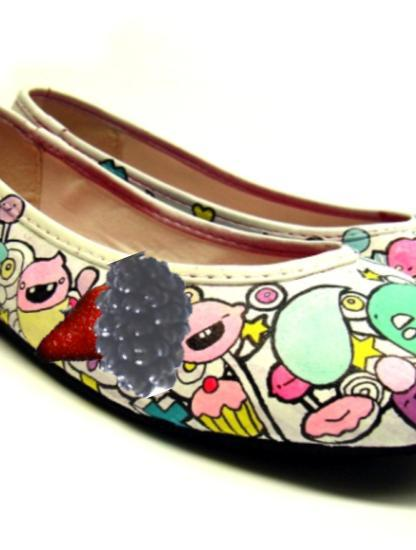Mulberry: (72, 257, 211, 396)
Strawberry: (41, 271, 160, 390)
